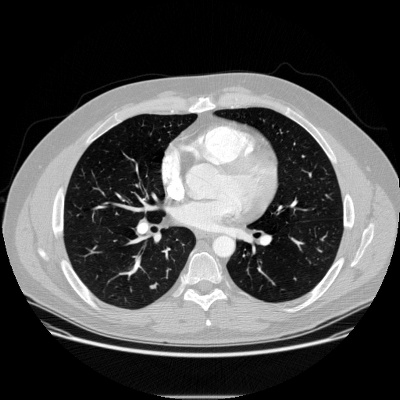PN: (150, 284, 154, 288)
